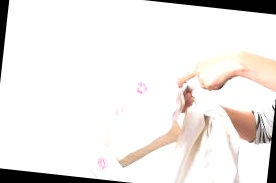lipstick: (132, 79, 150, 98), (96, 154, 111, 174), (112, 103, 127, 119)
